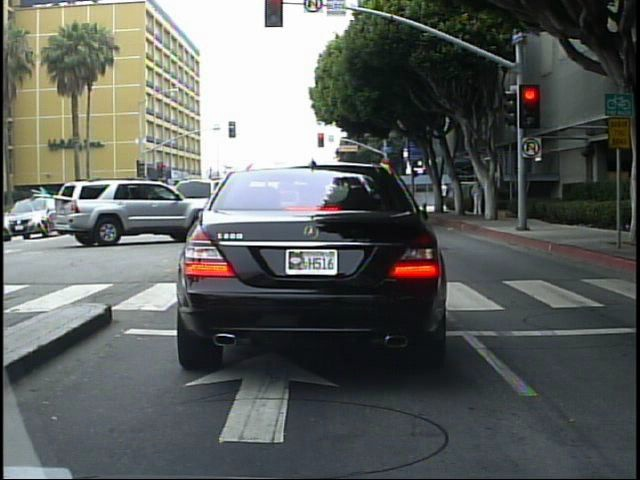person: (470, 179, 485, 218), (633, 166, 638, 271), (437, 179, 451, 213), (634, 167, 638, 269)
